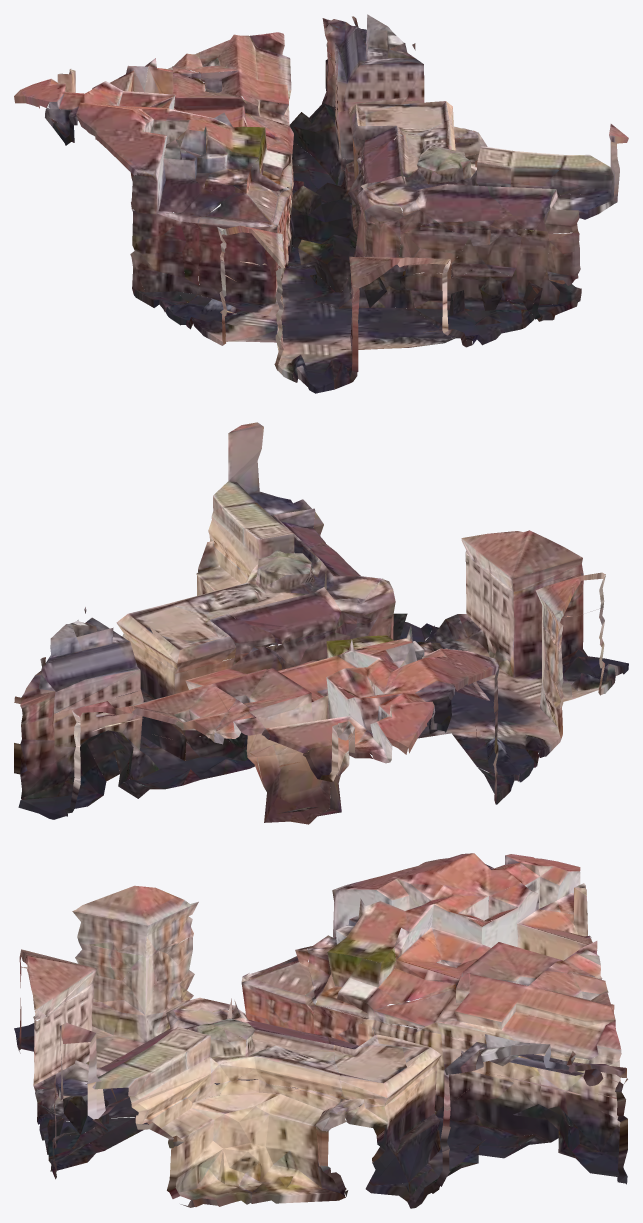
3 renders of one model, top to bottom at view 1: azimuth 30°, elevation 25°; view 2: azimuth 150°, elevation 25°; view 3: azimuth 270°, elevation 25°, orthographic. The views are drawn at different scales.
Visible parts, largest first — view 1: Mesh_0; view 2: Mesh_0; view 3: Mesh_0.
Part boxes in pixels (x1,y1,x2,y2): Mesh_0: (14, 14, 628, 393); Mesh_0: (14, 422, 628, 824); Mesh_0: (14, 853, 627, 1208).
Size of the model in its own units: 66.57 by 28.74 by 82.69.
Materials: 2 (2 with a texture image).
